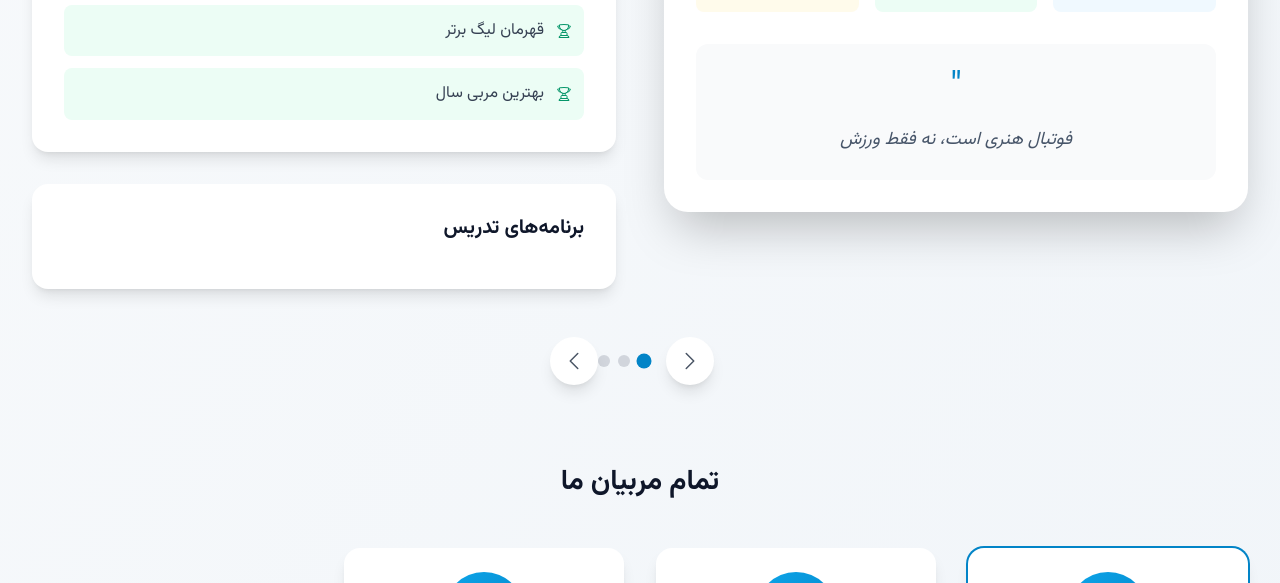
Scenario: CoachSpotlight › navigates to next coach when next button clicked
(page scrolled)
# The next button is the last one (has ChevronLeftIcon)
Click the 1st button at (574, 360), box left=550, top=336, right=598, bottom=384
(page scrolled)
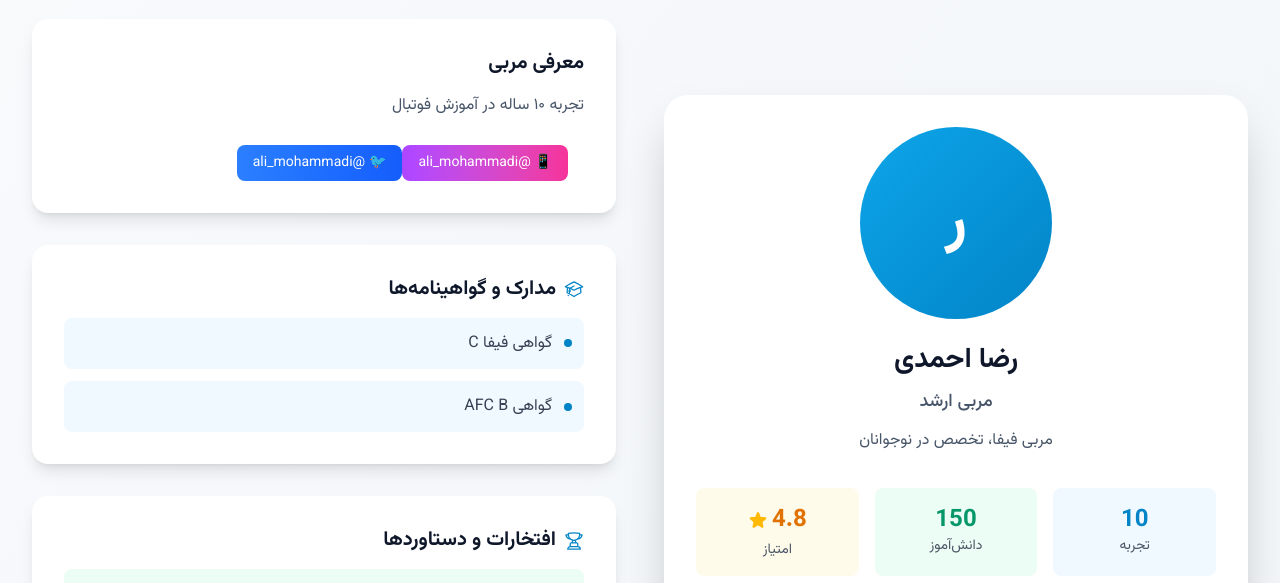
expect the heading "رضا احمدی" is shown: met, box left=894, top=338, right=1018, bottom=382
